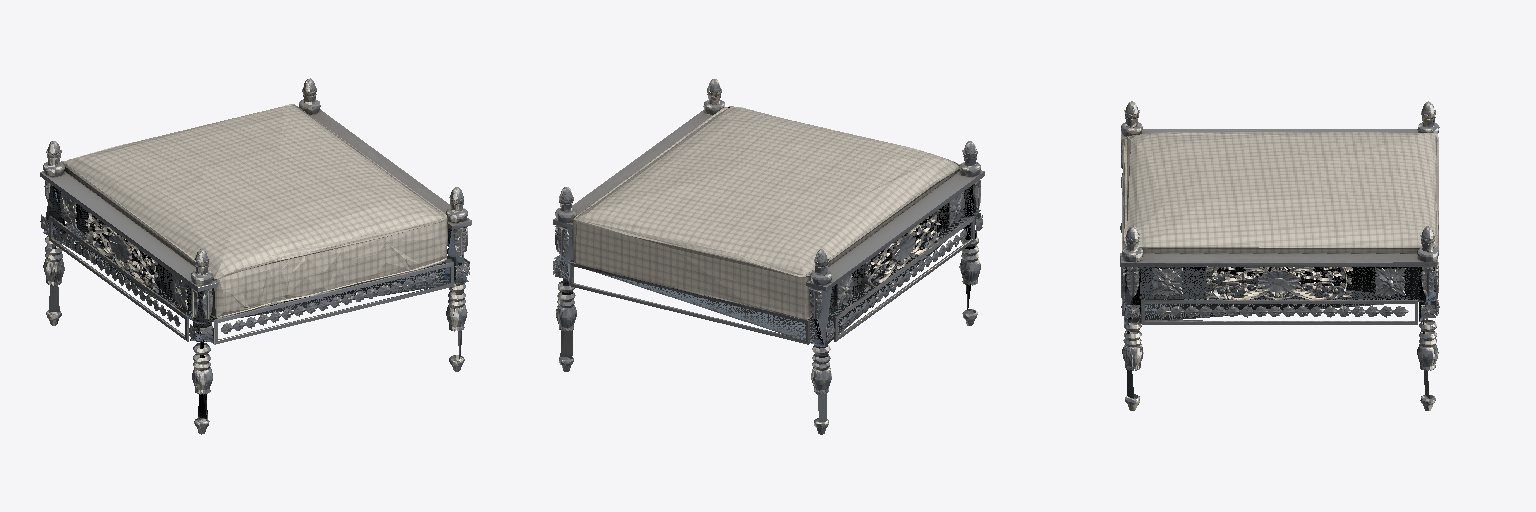
3 views of the same model, side by side, from view 1: azimuth 30°, elevation 25°; view 2: azimuth 150°, elevation 25°; view 3: azimuth 270°, elevation 25° (orthographic).
Parts seen in each view (by area): view 1: solid_003, solid_002, solid_001; view 2: solid_003, solid_002, solid_001; view 3: solid_003, solid_002, solid_001.
Part boxes in pixels (x1,y1,x2,y2): solid_003: (61,104,447,318); solid_002: (40,78,471,434); solid_001: (43,185,468,419); solid_003: (573,106,959,319); solid_002: (553,79,984,434); solid_001: (554,185,980,421); solid_003: (1122,132,1438,261); solid_002: (1120,101,1439,410); solid_001: (1124,267,1436,398).
Bounding box in the file's own units: 0.6628 × 0.4202 × 0.6621.
Materials: 1 (1 with a texture image).